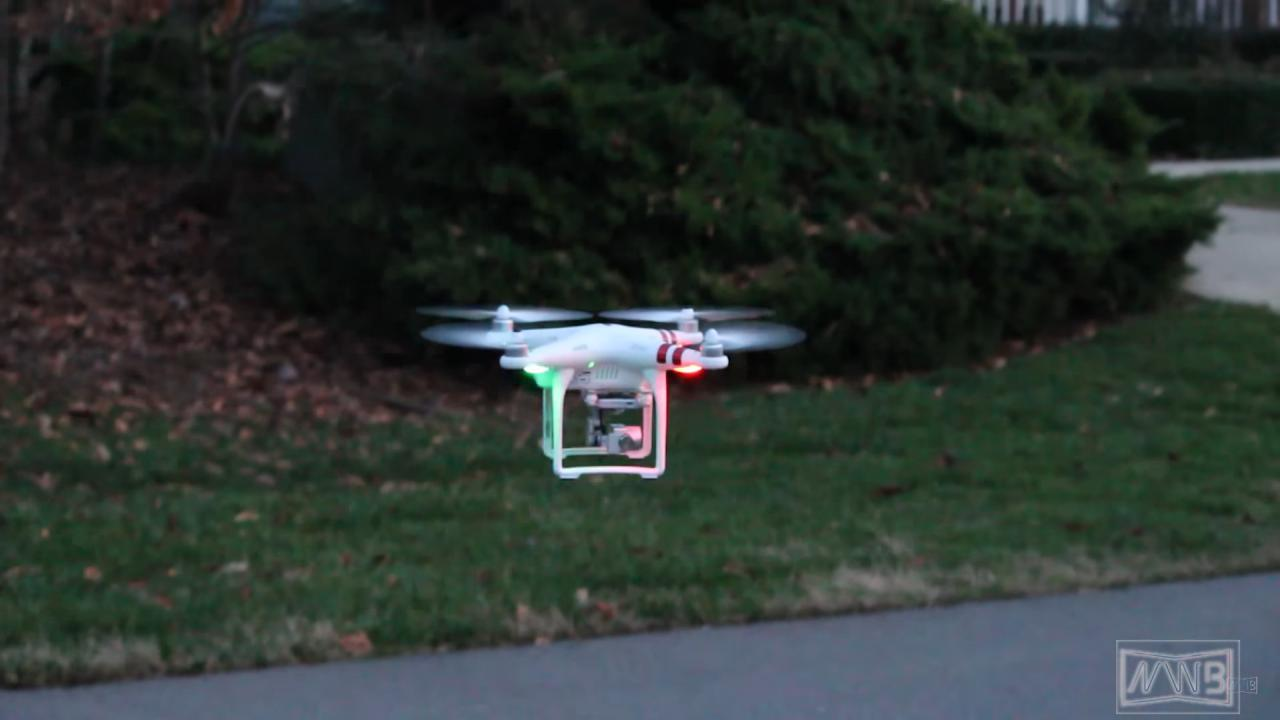Drone: (402, 280, 823, 502)
